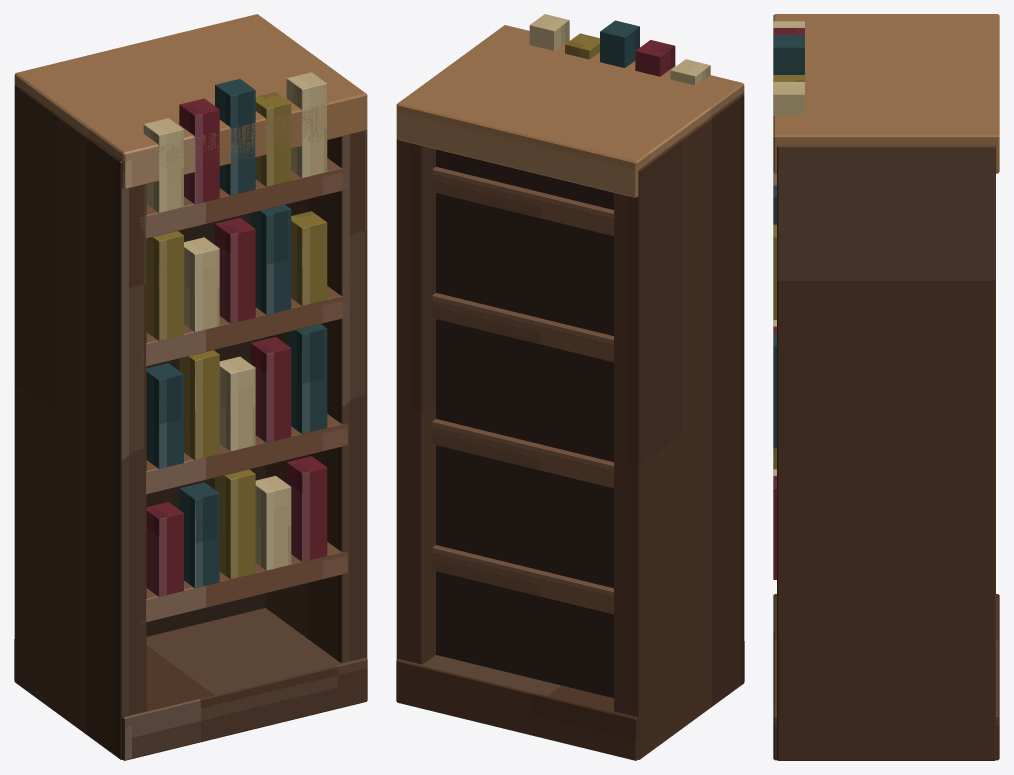
Rendered from mansion_bookshelf.glb.
3 renders of one model, left to right at view 1: azimuth 30°, elevation 25°; view 2: azimuth 150°, elevation 25°; view 3: azimuth 270°, elevation 25°, orthographic. The views are drawn at different scales.
Visible parts, largest first — view 1: BookcasePost_L, BookcaseTop, BookcasePost_R, BookcaseBase, Shelf_1, Shelf_4, Shelf_2, Shelf_3, BookcaseBack, Book_3_1, Book_2_5, Book_3_4 (+17 smaller); view 2: BookcasePost_L, BookcaseBack, BookcaseTop, BookcasePost_R, BookcaseBase, Shelf_1, Shelf_2, Shelf_3, Shelf_4, Book_4_3, Book_4_2, Book_4_5 (+2 smaller); view 3: BookcasePost_R, BookcaseTop, BookcaseBase, Book_4_3, Book_4_5, Book_2_5, Book_1_5.
Part boxes in pixels (<box>): BookcasePost_L: <box>14,84,146,759</box>; BookcaseTop: <box>14,14,367,189</box>; BookcasePost_R: <box>265,129,367,662</box>; BookcaseBase: <box>14,608,367,760</box>; Shelf_1: <box>140,542,347,622</box>; Shelf_4: <box>140,158,347,238</box>; Shelf_2: <box>146,414,347,494</box>; Shelf_3: <box>141,286,347,366</box>; BookcaseBack: <box>146,213,265,636</box>; Book_3_1: <box>146,231,183,340</box>; Book_2_5: <box>286,324,327,433</box>; Book_3_4: <box>251,205,291,314</box>; BookcasePost_L: <box>614,94,744,759</box>; BookcaseBack: <box>436,149,613,698</box>; BookcaseTop: <box>396,25,744,197</box>; BookcasePost_R: <box>396,139,435,664</box>; BookcaseBase: <box>396,641,744,760</box>; Shelf_1: <box>432,545,613,614</box>; Shelf_2: <box>432,419,613,488</box>; Shelf_3: <box>432,293,613,361</box>; Shelf_4: <box>432,167,613,235</box>; Book_4_3: <box>600,20,639,67</box>; Book_4_2: <box>635,40,675,76</box>; Book_4_5: <box>529,14,569,50</box>; BookcasePost_R: <box>777,145,995,760</box>; BookcaseTop: <box>773,14,999,173</box>; BookcaseBase: <box>773,594,999,760</box>; Book_4_3: <box>773,34,804,74</box>; Book_4_5: <box>773,82,804,185</box>; Book_2_5: <box>773,333,776,448</box>; Book_1_5: <box>773,476,776,579</box>.
Size of the model in its own units: 0.83 by 2.05 by 0.64.
Materials: 1 (1 with a texture image).
